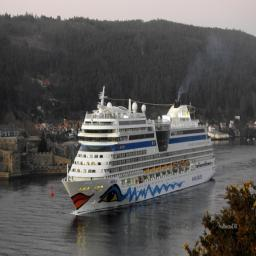cruises: (63, 83, 223, 217)
